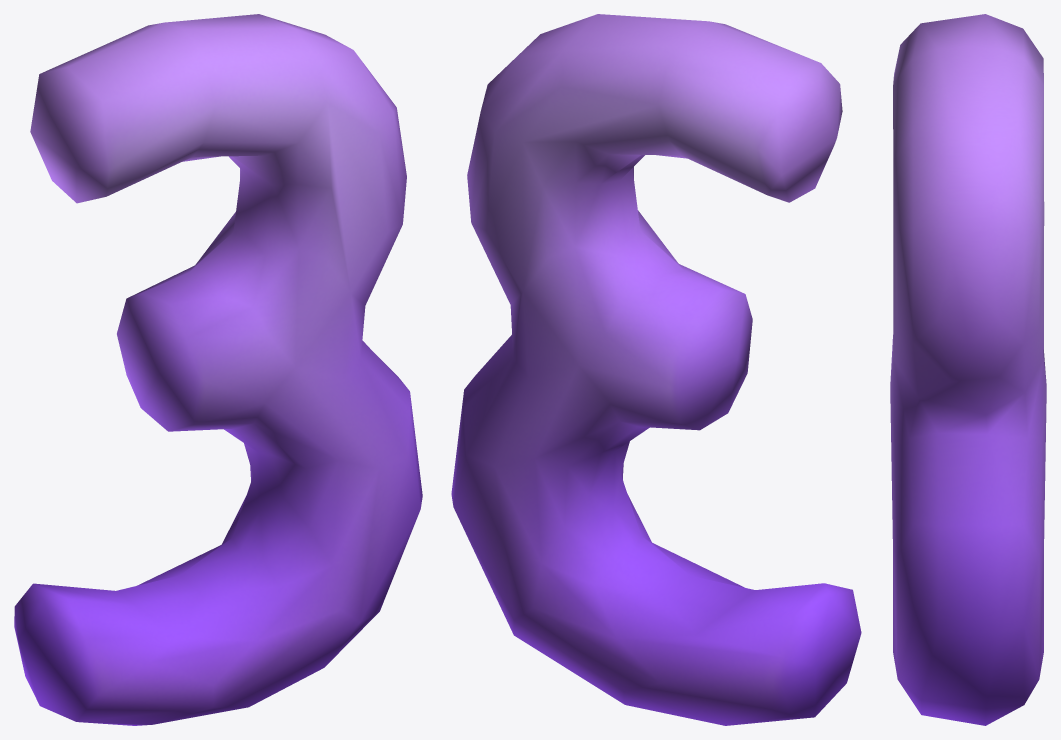
3 views of the same model, side by side, from view 1: azimuth 30°, elevation 25°; view 2: azimuth 150°, elevation 25°; view 3: azimuth 270°, elevation 25° (orthographic). The views are drawn at different scales.
Parts seen in each view (by area): view 1: Processed_Mesh0_Geometry; view 2: Processed_Mesh0_Geometry; view 3: Processed_Mesh0_Geometry.
Boxes of the visible parts, bbox=[...] form: Processed_Mesh0_Geometry: bbox=[14, 14, 422, 725]; Processed_Mesh0_Geometry: bbox=[451, 14, 861, 725]; Processed_Mesh0_Geometry: bbox=[890, 14, 1046, 725].
Size of what is drawn, in the model's own units: 0.0474 by 0.0825 by 0.0181.
Materials: 1 (1 with a texture image).
